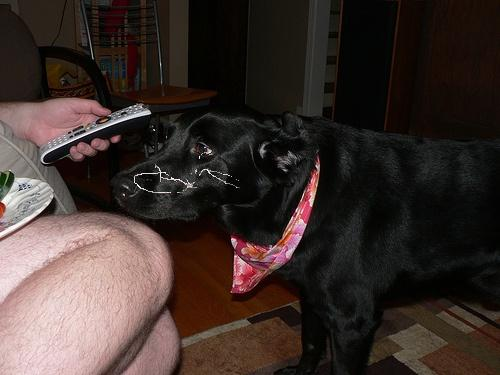tampered: (135, 153, 240, 193)
